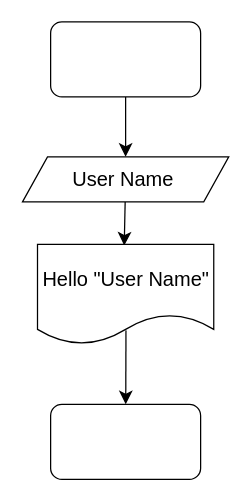
Image size: 250x501. Some labels were removed from this diagram. The box of each missing label's shape, as (x1, y1, x2, y2) in pixels:
end: (49, 403, 201, 479)
Start: (49, 21, 201, 97)
